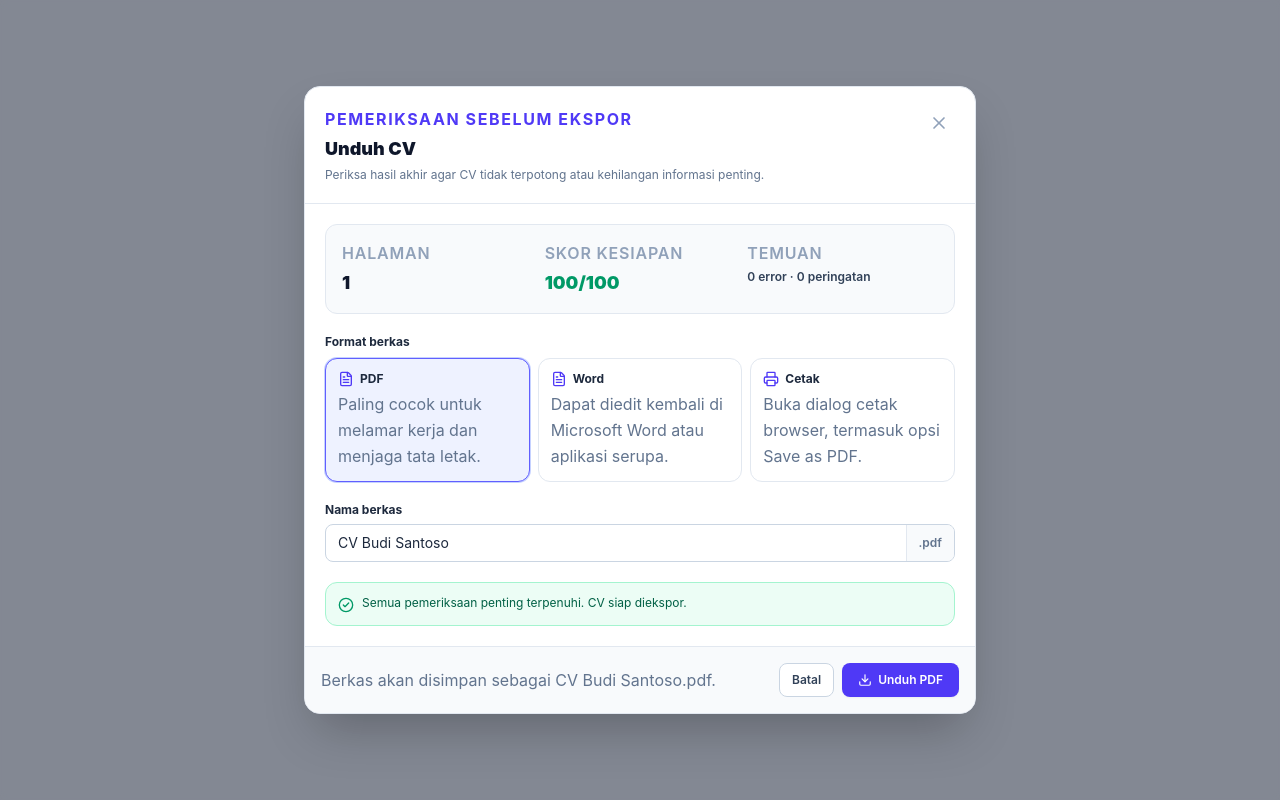
Test: ExportResumeModal › menampilkan pesan kesalahan ketika proses ekspor gagal
Click the button with test id "btn-confirm-export" at (901, 680), box top-left (842, 663), bottom-right (959, 697)
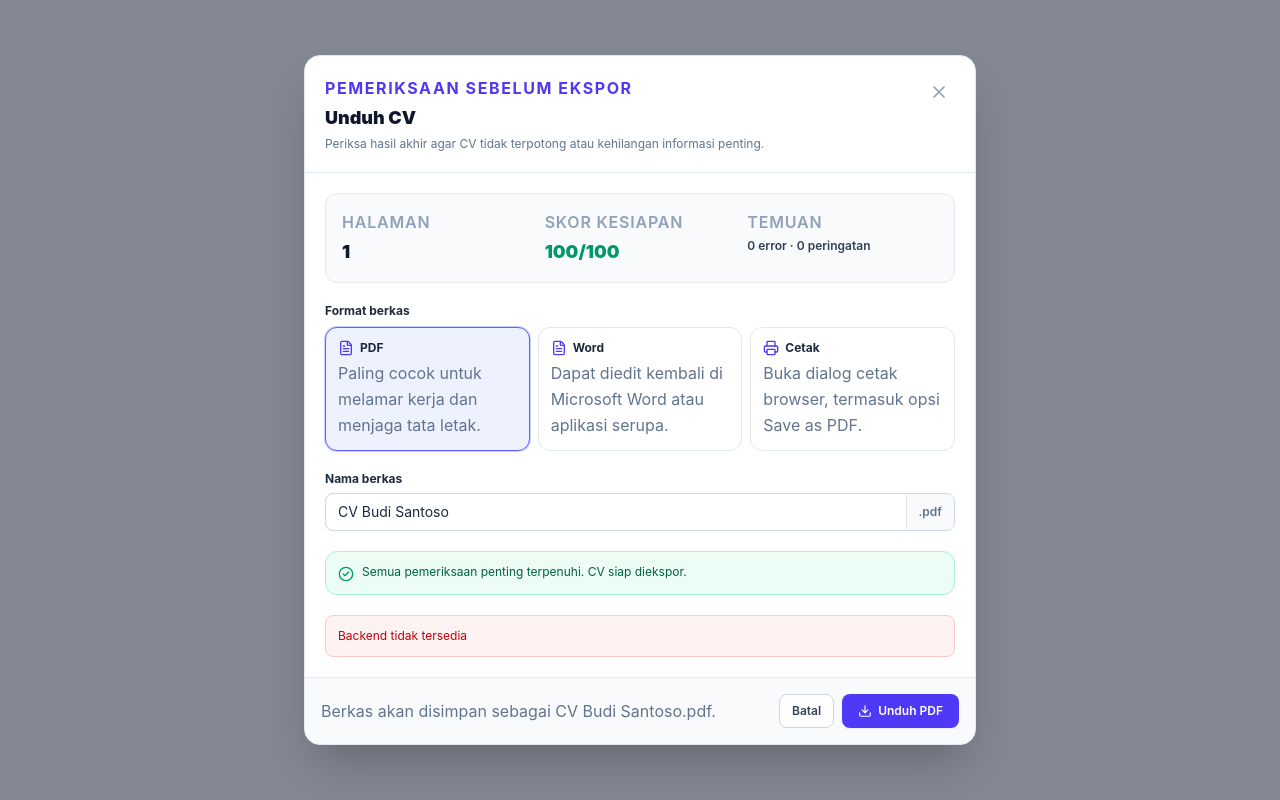
Check: the message reads "Backend tidak tersedia", box top-left (338, 628), bottom-right (467, 643)
